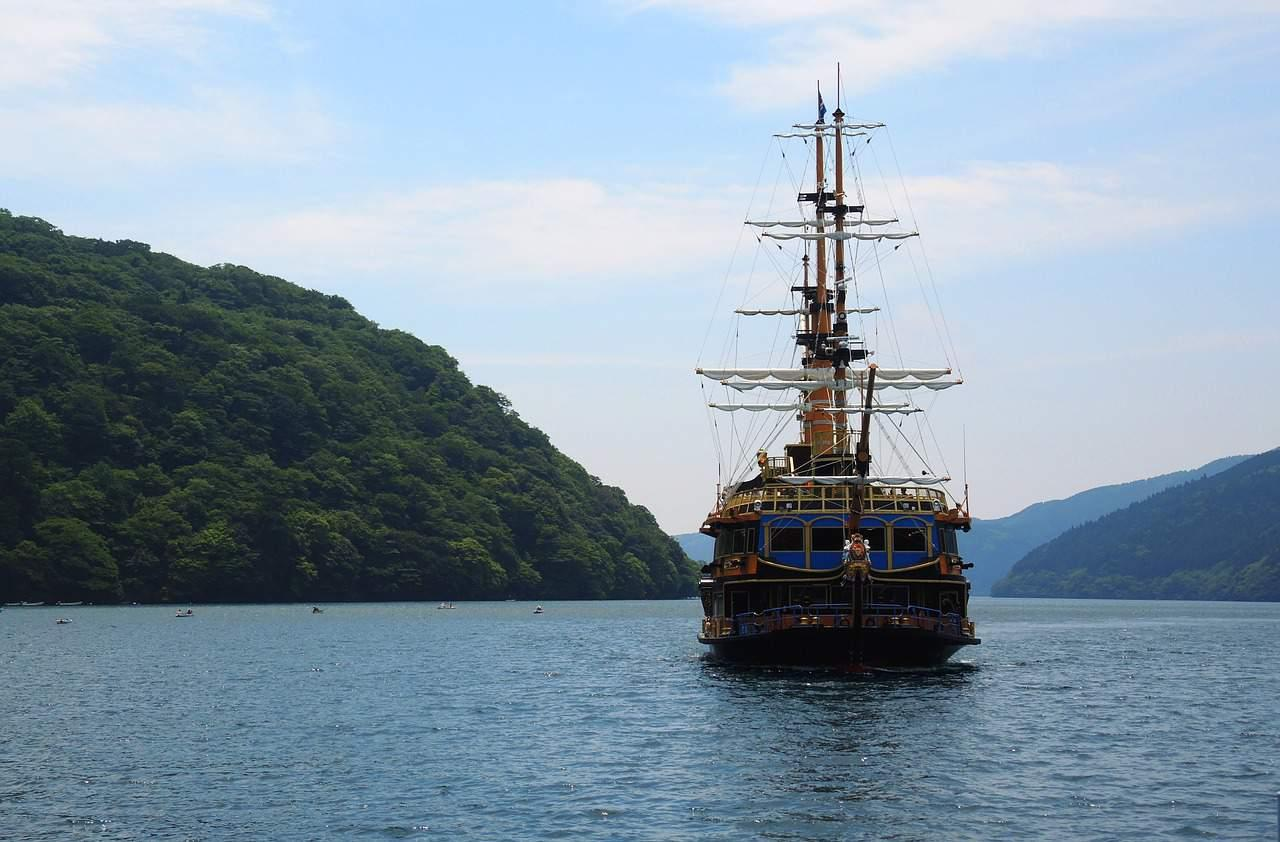Ship: (692, 63, 984, 681)
